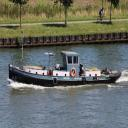tugboat: (9, 51, 123, 90)
